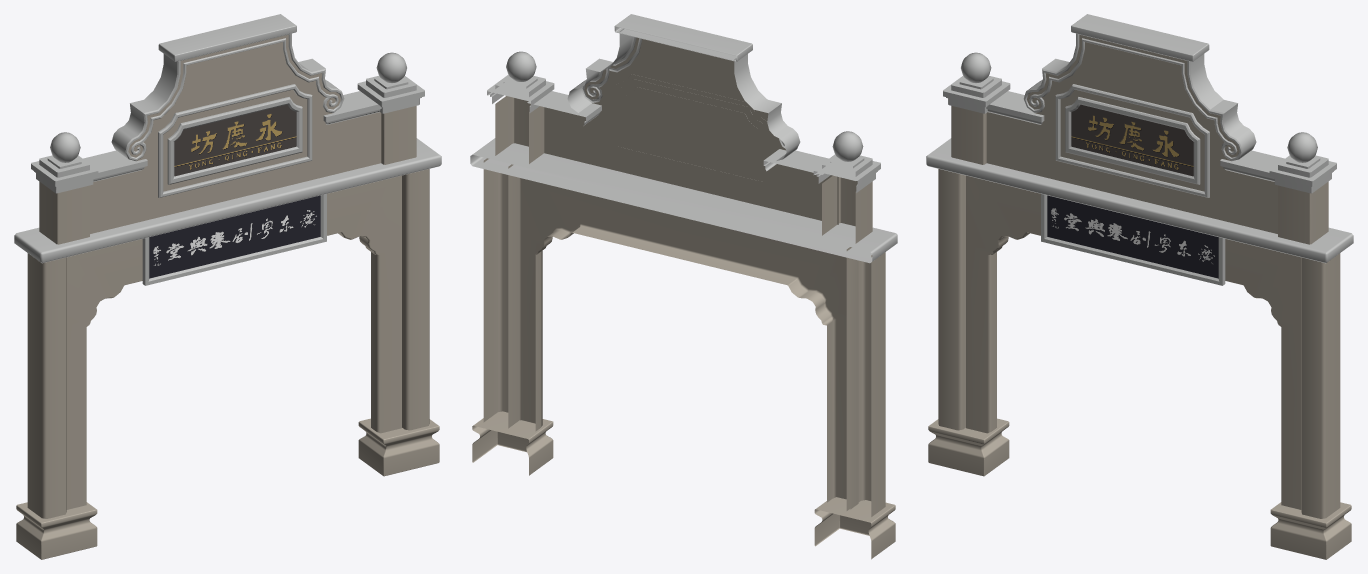
The model's file is YongQingFang.fbx.
The picture shows the model from 3 angles, left to right: view 1: azimuth 30°, elevation 25°; view 2: azimuth 150°, elevation 25°; view 3: azimuth 330°, elevation 25°; orthographic projection.
Visible parts, largest first — view 1: YongQingFang; view 2: YongQingFang; view 3: YongQingFang.
Boxes of the visible parts, box(x1,y1,x2,y2) form: YongQingFang: box(14, 14, 441, 559); YongQingFang: box(470, 14, 897, 559); YongQingFang: box(926, 14, 1353, 559).
Bounding box in the file's own units: 47.77 × 53.15 × 5.54.
